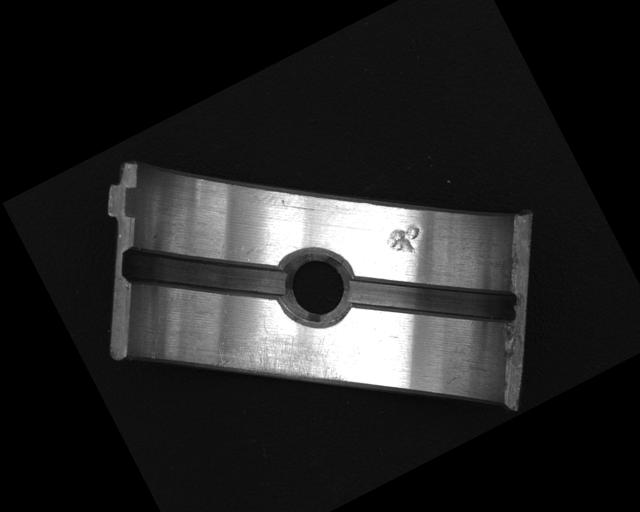bruise: (380, 218, 429, 264)
gap: (342, 217, 523, 382), (114, 193, 293, 356)
hole: (264, 233, 370, 339)
scratch: (200, 298, 349, 435)
